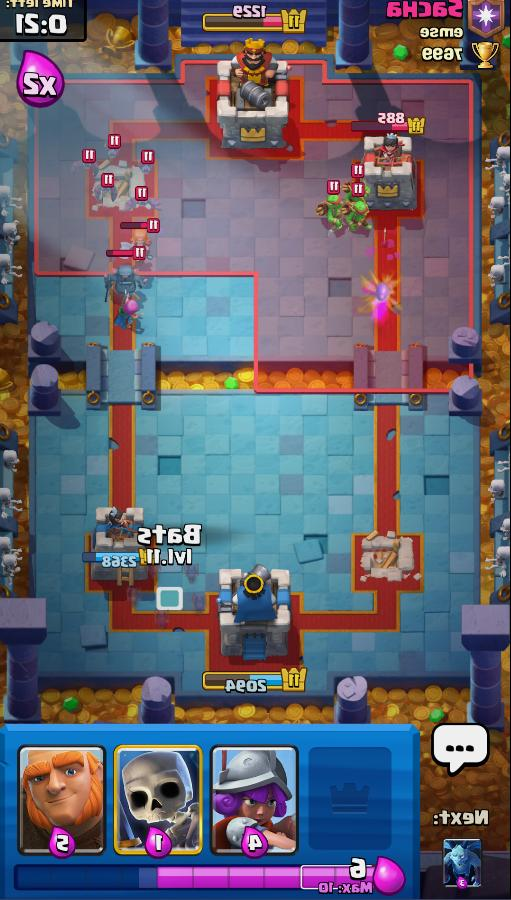archere: (110, 291, 148, 340)
bat: (118, 189, 166, 219), (143, 601, 179, 638), (181, 584, 214, 618), (174, 559, 211, 588), (138, 558, 170, 589), (90, 179, 124, 207), (69, 154, 109, 177), (119, 580, 146, 610), (99, 140, 130, 166), (130, 154, 162, 178)
gobelin_lances: (335, 202, 376, 238), (313, 194, 347, 235), (334, 181, 369, 210)
mini_PEKKA: (92, 266, 157, 308)
valkyrie: (117, 222, 157, 273)
